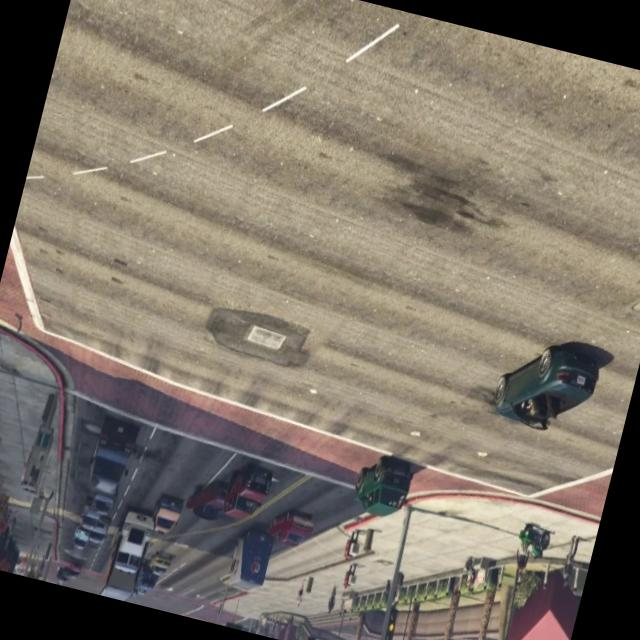Yellow-Signal: (378, 596, 404, 640), (302, 629, 320, 640)
